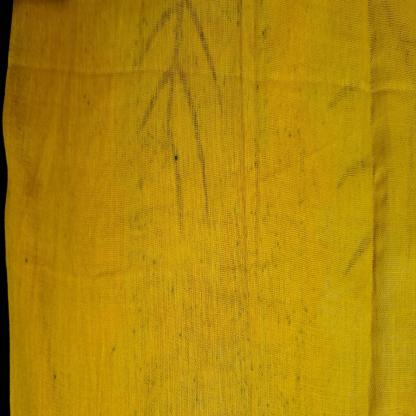spot: (287, 310, 314, 355), (248, 115, 272, 165), (238, 358, 268, 391), (258, 20, 276, 62), (238, 287, 251, 344), (272, 222, 286, 267), (283, 120, 306, 146), (149, 247, 162, 272), (138, 173, 150, 197), (51, 364, 64, 386), (21, 242, 32, 267), (82, 90, 94, 109), (170, 146, 182, 162), (232, 231, 240, 249), (193, 393, 203, 406), (176, 328, 185, 342), (192, 372, 200, 387), (168, 281, 176, 294)
